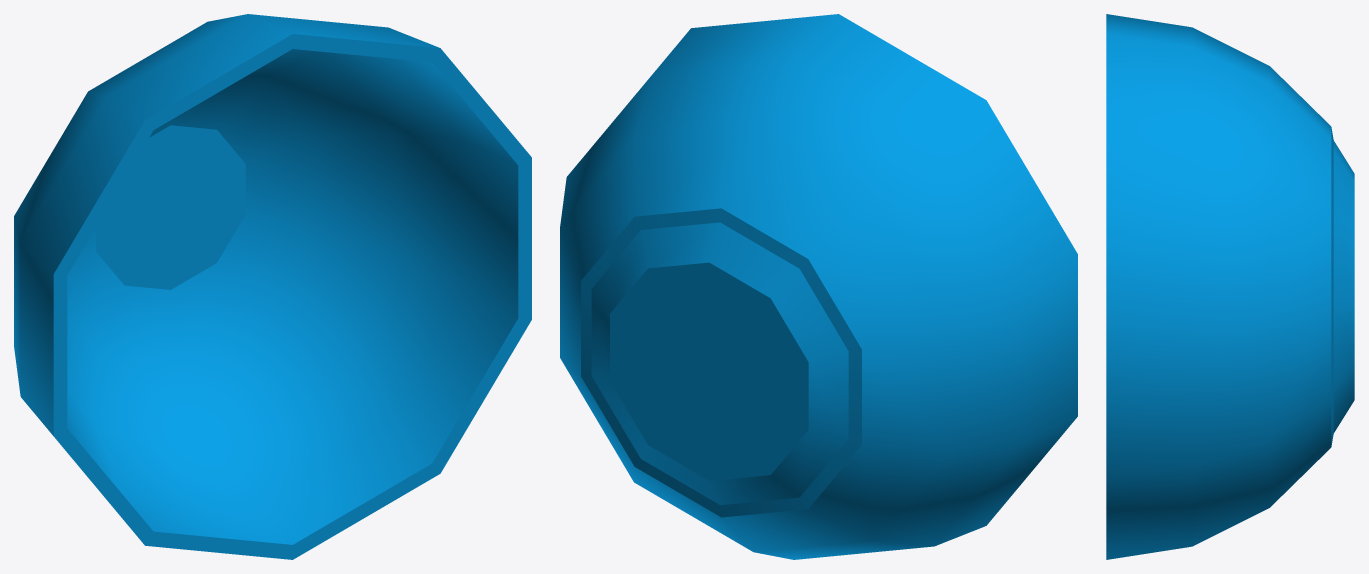
Rendered from 1fc9253d-fead-4706-8514-c9b99d019baf.glb.
The picture shows the model from 3 angles, left to right: view 1: azimuth 30°, elevation 25°; view 2: azimuth 150°, elevation 25°; view 3: azimuth 270°, elevation 25°; orthographic projection. The views are drawn at different scales.
Visible parts, largest first — view 1: pSphere46; view 2: pSphere46; view 3: pSphere46.
Boxes of the visible parts, x1,y1,x2,y2 form: pSphere46: (14, 14, 531, 559); pSphere46: (560, 14, 1077, 559); pSphere46: (1106, 14, 1354, 559).
Size of the model in its own units: 103 by 108 by 48.17.
